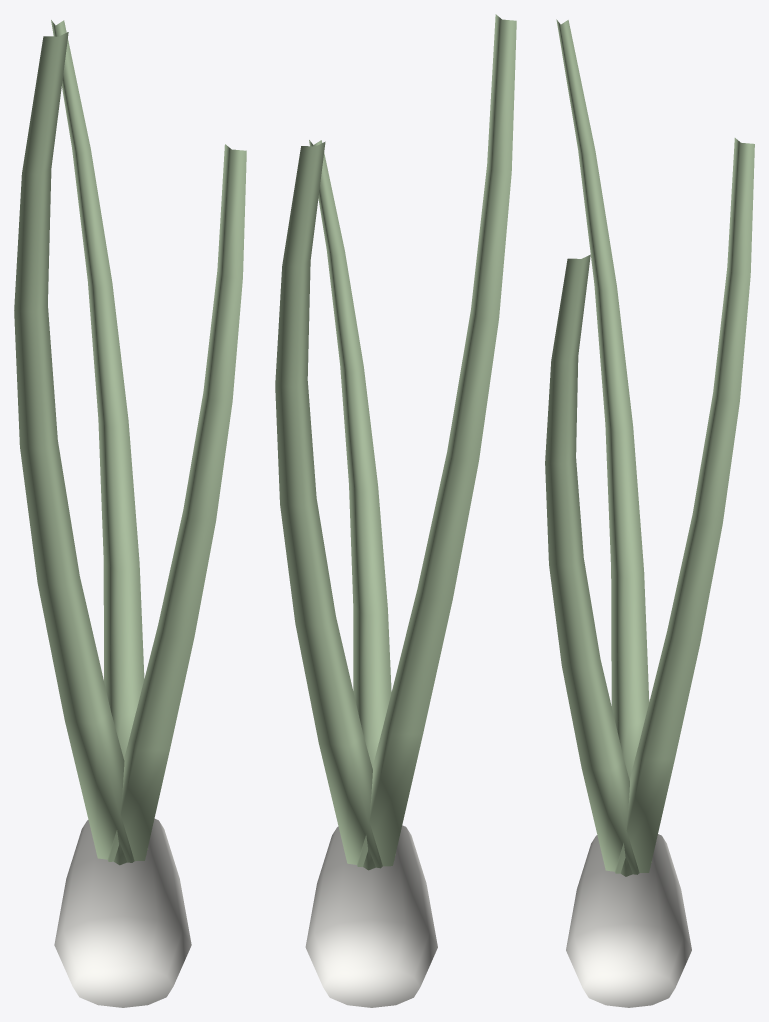
Rendered from scallion_m.glb.
The picture shows the model from 3 angles, left to right: view 1: azimuth 30°, elevation 25°; view 2: azimuth 150°, elevation 25°; view 3: azimuth 270°, elevation 25°; orthographic projection. The views are drawn at different scales.
Parts seen in each view (by area): view 1: leaf2, leaf0, leaf1, bulb; view 2: leaf2, leaf1, bulb, leaf0; view 3: leaf1, leaf0, leaf2, bulb.
Part boxes in pixels (x1,y1,x2,y2): leaf2: (14,32,148,862); leaf0: (107,144,246,861); leaf1: (51,20,146,865); bulb: (54,818,191,1007); leaf2: (357,14,516,866); leaf1: (275,141,395,868); bulb: (305,825,437,1007); leaf0: (309,140,394,870); leaf1: (615,138,754,873); leaf0: (545,254,651,874); leaf2: (556,19,650,876); bulb: (566,834,691,1007).
Size of the model in its own units: 0.0351 by 0.1573 by 0.0324.
